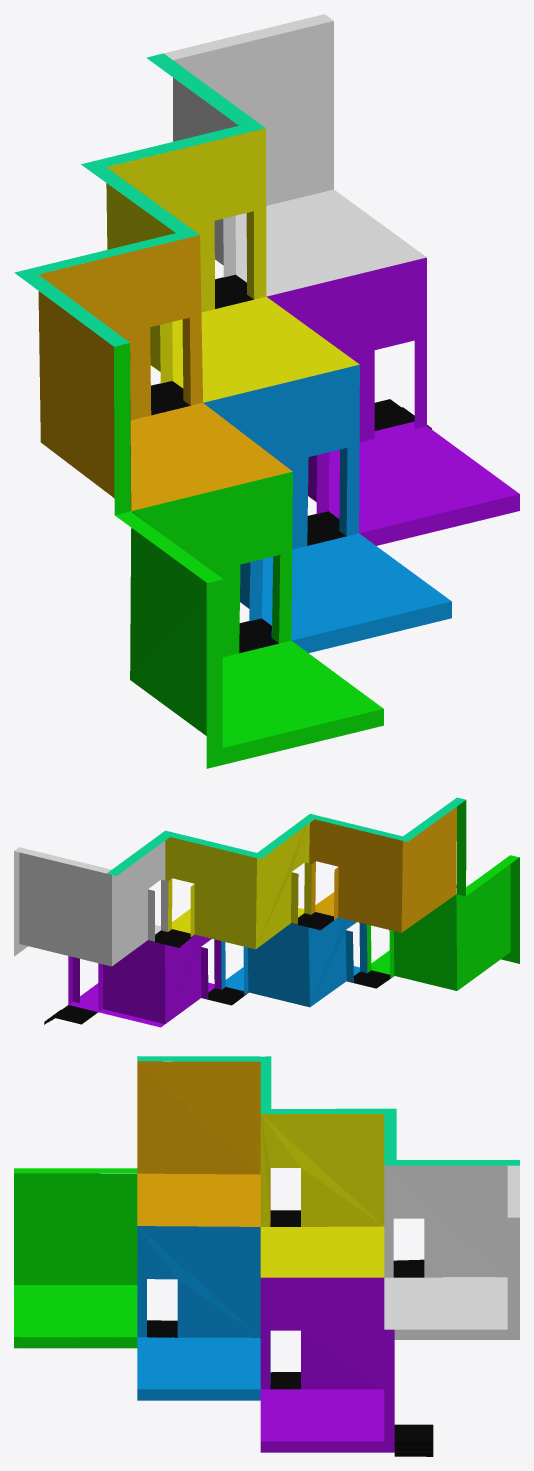
The model's file is NewHouseModel.fbx.
The picture shows the model from 3 angles, top to bottom: view 1: azimuth 30°, elevation 25°; view 2: azimuth 150°, elevation 25°; view 3: azimuth 270°, elevation 25°; orthographic projection. The views are drawn at different scales.
Parts seen in each view (by area): view 1: house_6; view 2: house_6; view 3: house_6.
Part boxes in pixels (box(x1,y1,x2,y2)): house_6: box(14, 14, 519, 768); house_6: box(14, 797, 519, 1027); house_6: box(14, 1056, 519, 1456).
Bounding box in the file's own units: 318 × 210 × 410.
